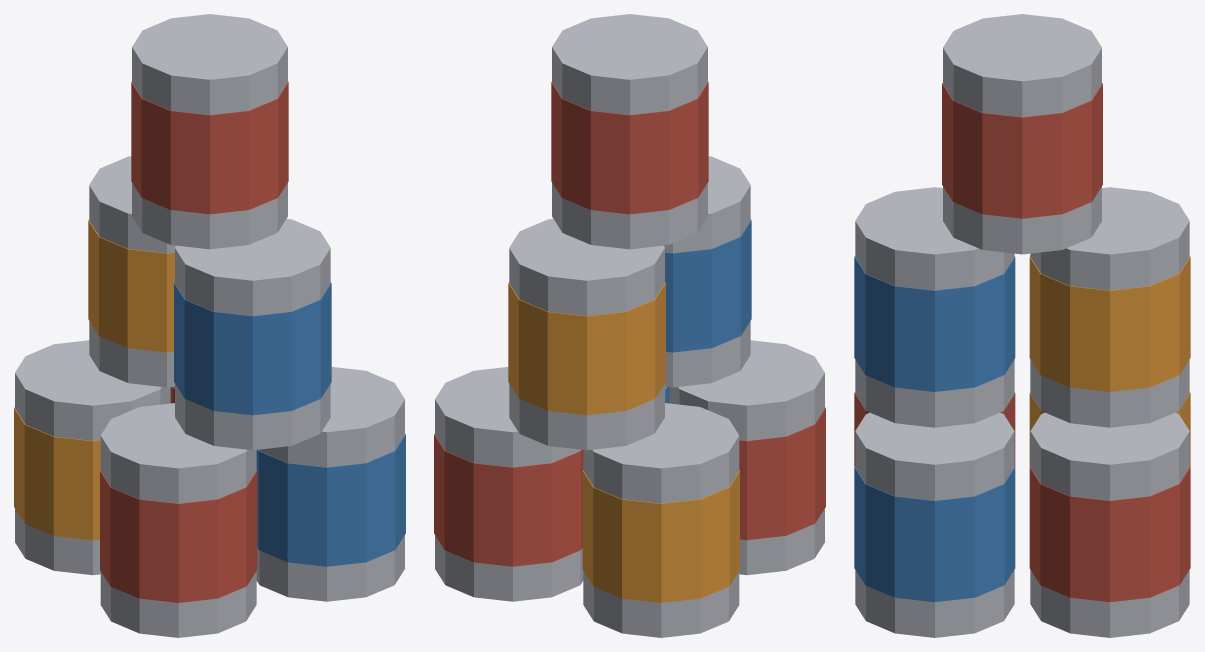
Rendered from cans_stack.glb.
3 views of the same model, side by side, from view 1: azimuth 30°, elevation 25°; view 2: azimuth 150°, elevation 25°; view 3: azimuth 270°, elevation 25° (orthographic). The views are drawn at different scales.
Visible parts, largest first — view 1: cans_stack; view 2: cans_stack; view 3: cans_stack.
Part boxes in pixels (box(x1,y1,x2,y2)): cans_stack: box(14, 14, 405, 637); cans_stack: box(434, 14, 825, 637); cans_stack: box(854, 14, 1190, 637).
Bounding box in the file's own units: 0.211 × 0.36 × 0.211.
